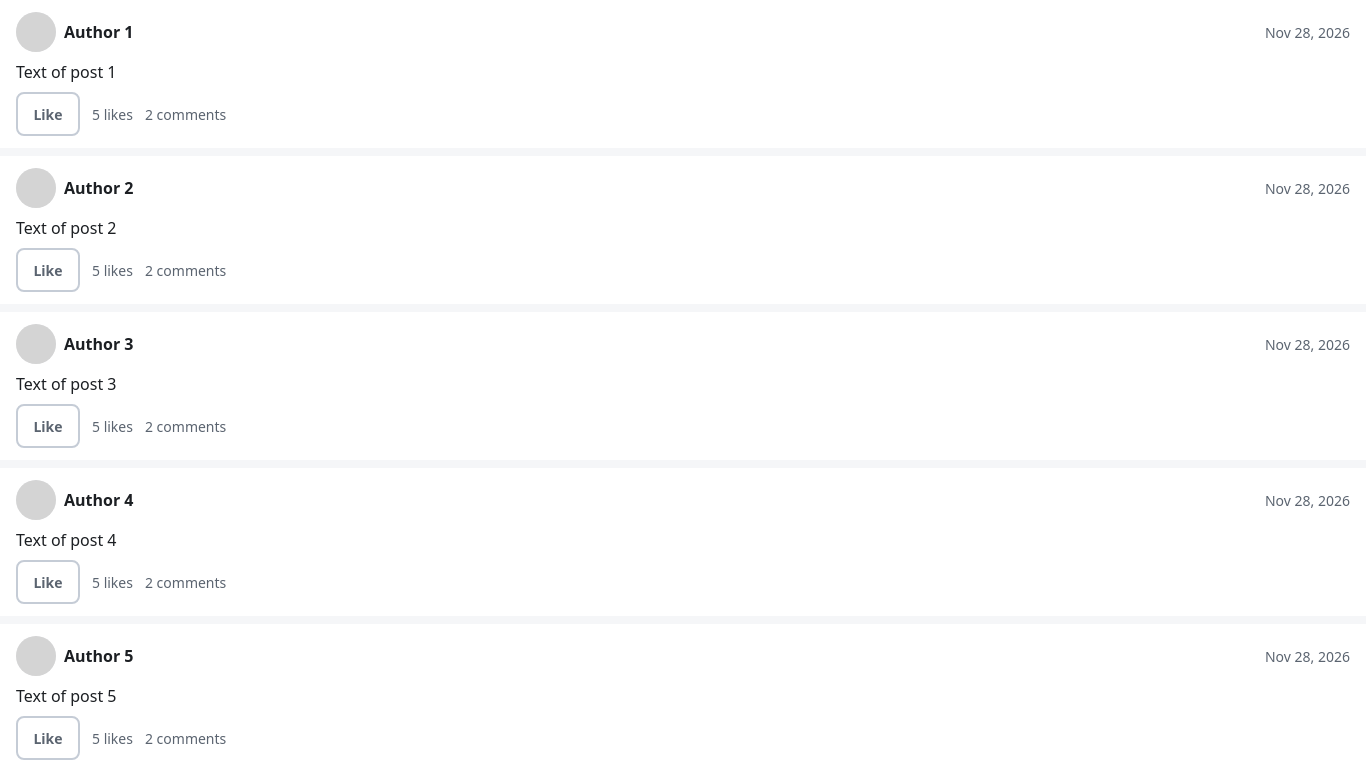
Test: Feed: the like button › ends not pressed after a quick double tap, and sends the two choices in order
The image size is (1366, 768).
Click the 1st button "Like".
click(48, 114)  # box 16,92 -> 80,136
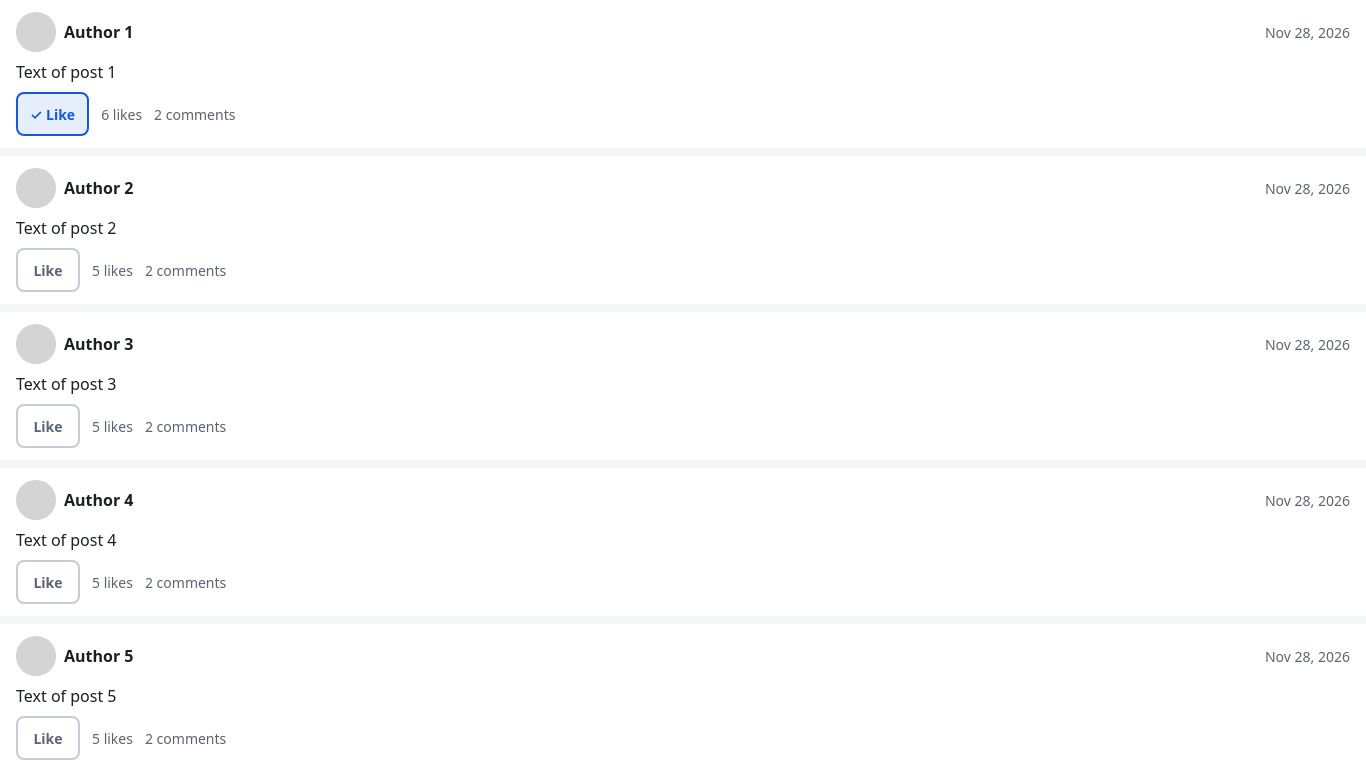
Click the button "Like" next to "6 likes".
click(53, 114)  # box 16,92 -> 89,136
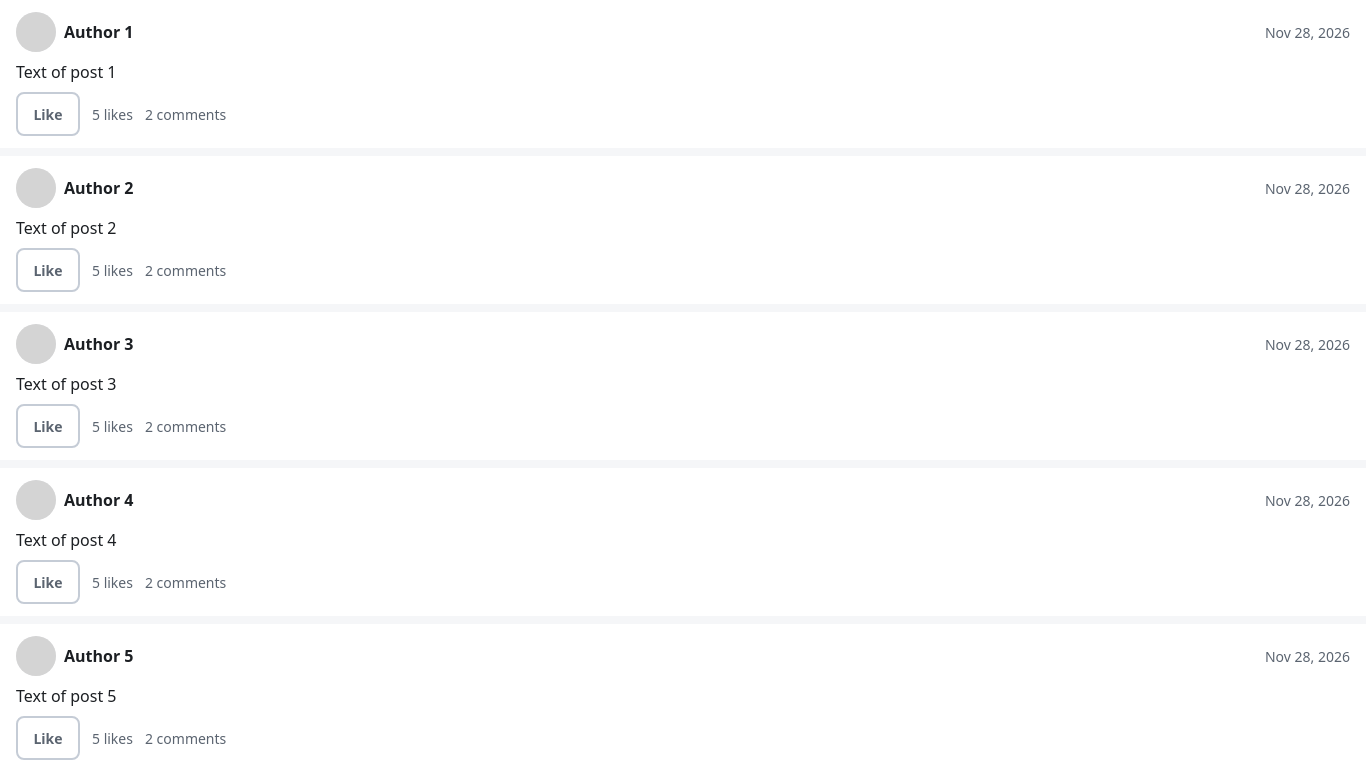
Now the 1st text "5 likes" is shown, box 92,104 -> 133,124
